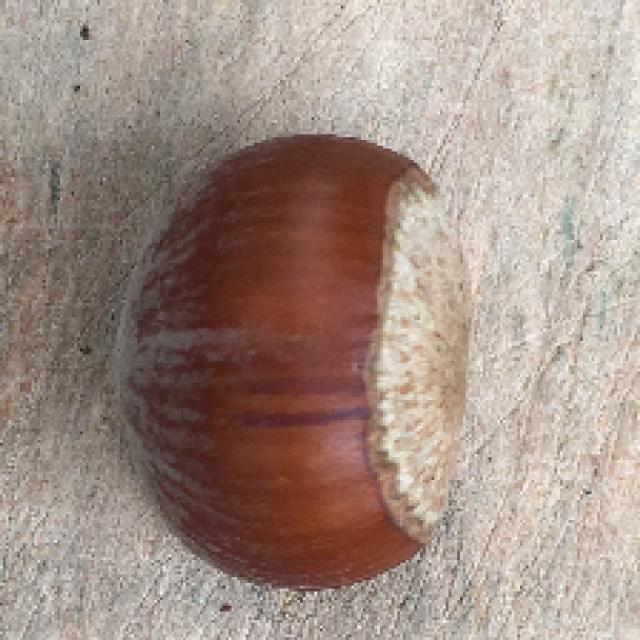QualityHazelnut: (108, 128, 473, 590)
